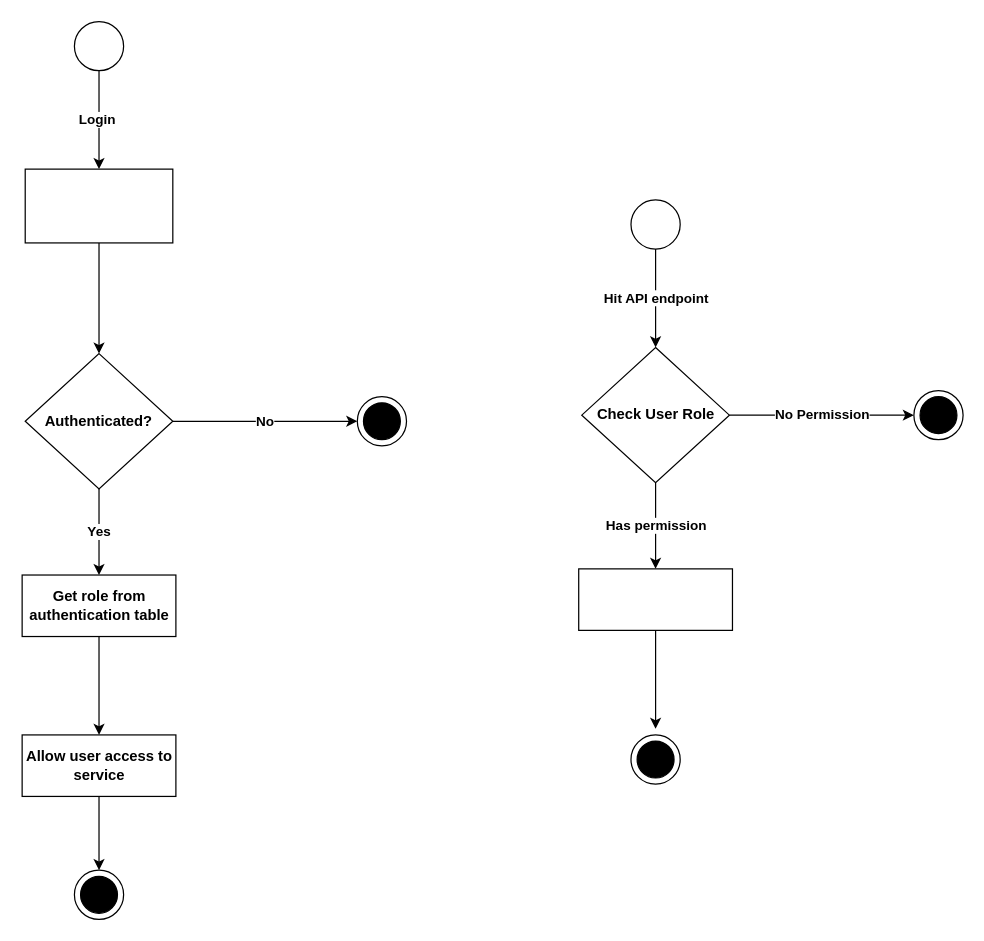
The diagram is 984 pixels wide and 941 high, and some of its shapes have lost their labels. Each missing label, with the box of its shape:
Enter email address and password: (24, 168, 173, 243)
Forward API request: (577, 568, 732, 630)
